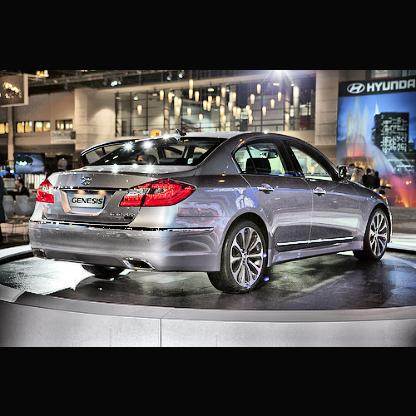Hyundai Genesis Sedan 2012: (29, 132, 394, 297)
